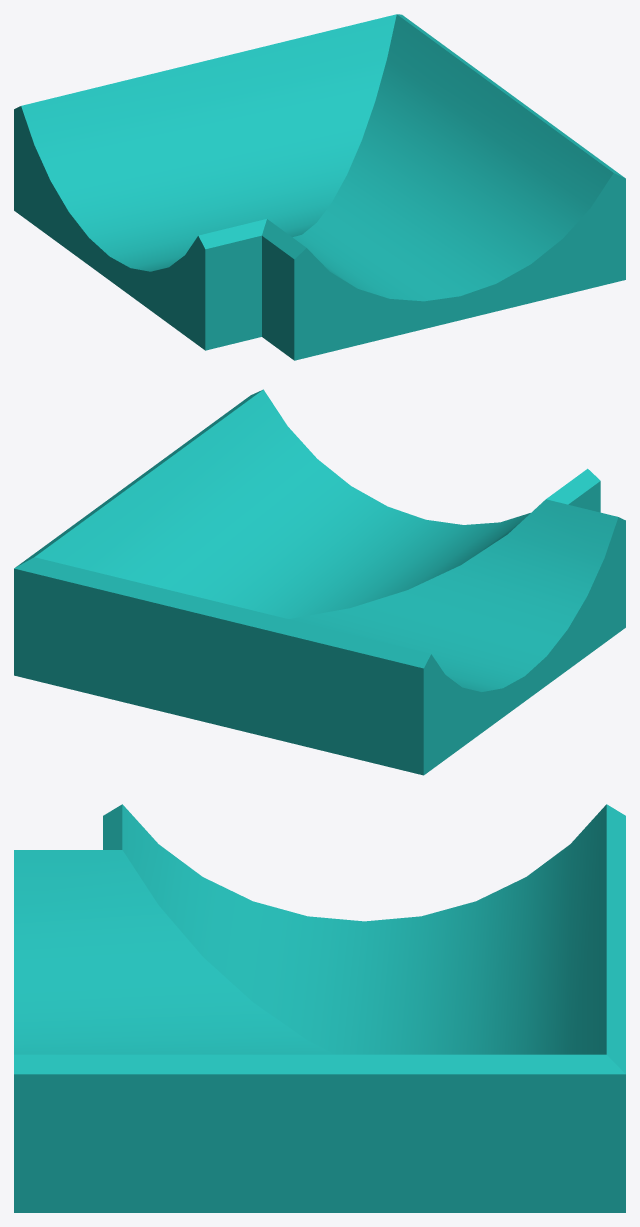
The model's file is RoundCorr_Ceiling_LType_A.FBX.
The picture shows the model from 3 angles, top to bottom: view 1: azimuth 30°, elevation 25°; view 2: azimuth 150°, elevation 25°; view 3: azimuth 270°, elevation 25°; orthographic projection. The views are drawn at different scales.
Parts seen in each view (by area): view 1: RoundCorr_Ceiling_LType_A; view 2: RoundCorr_Ceiling_LType_A; view 3: RoundCorr_Ceiling_LType_A.
Boxes of the visible parts, left/top/right/bottom form: RoundCorr_Ceiling_LType_A: left=14, top=14, right=625, bottom=360; RoundCorr_Ceiling_LType_A: left=14, top=389, right=625, bottom=775; RoundCorr_Ceiling_LType_A: left=14, top=804, right=625, bottom=1212.
Bounding box in the file's own units: 526 × 142 × 526.
